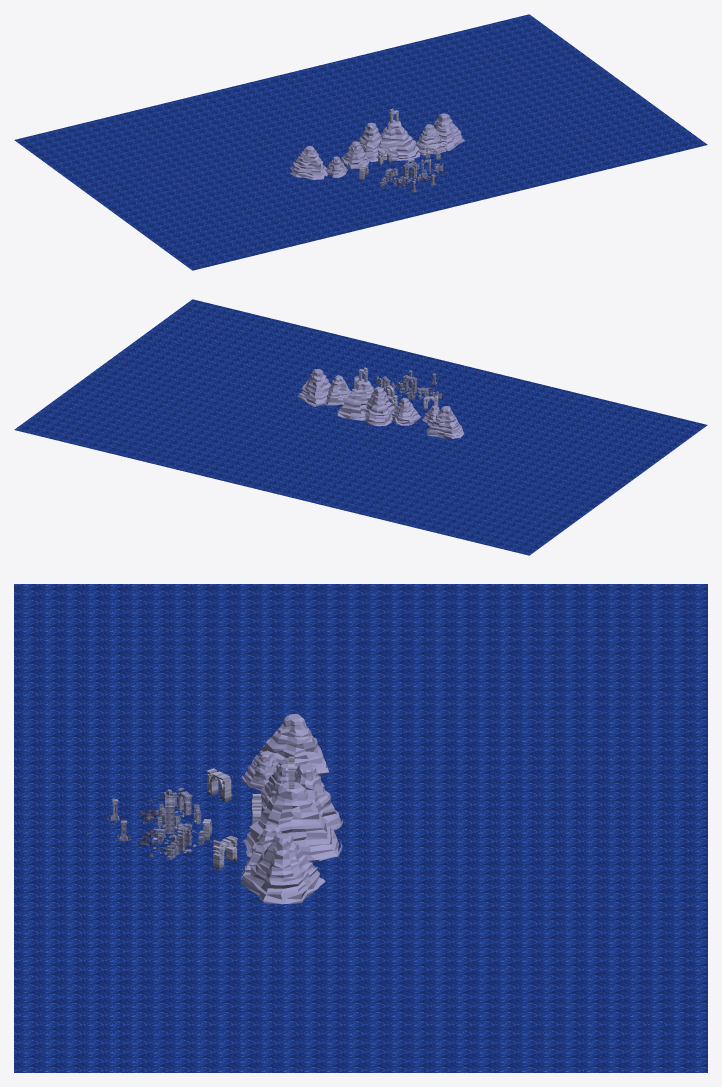
The model's file is ruins.fbx.
3 renders of one model, top to bottom at view 1: azimuth 30°, elevation 25°; view 2: azimuth 150°, elevation 25°; view 3: azimuth 270°, elevation 25°, orthographic. The views are drawn at different scales.
Parts seen in each view (by area): view 1: Water, Crag_Main, Crag_Far_L2, Crag_Far_R, Crag_Left, Crag_Right, Crag_Left_2; view 2: Water, Crag_Main, Crag_Left, Crag_Far_R, Crag_Far_L2, Crag_Left_2, Crag_Right; view 3: Water, Crag_Main, Crag_Far_R, Crag_Far_L2, Crag_Left, Crag_Far_L.
Boxes of the visible parts, x1,y1,x2,y2 form: Water: [14, 14, 707, 270]; Crag_Main: [376, 120, 420, 160]; Crag_Far_L2: [289, 146, 327, 179]; Crag_Far_R: [433, 113, 464, 150]; Crag_Left: [358, 122, 381, 162]; Crag_Right: [416, 124, 445, 155]; Crag_Left_2: [341, 141, 369, 168]; Water: [14, 299, 707, 555]; Crag_Main: [337, 379, 373, 420]; Crag_Left: [363, 386, 394, 426]; Crag_Far_R: [297, 369, 331, 406]; Crag_Far_L2: [426, 406, 464, 438]; Crag_Left_2: [391, 398, 421, 425]; Crag_Right: [324, 375, 351, 405]; Water: [14, 584, 707, 1072]; Crag_Main: [243, 782, 342, 861]; Crag_Far_R: [240, 833, 325, 904]; Crag_Far_L2: [251, 713, 329, 775]; Crag_Left: [294, 764, 342, 830]; Crag_Far_L: [241, 750, 279, 790].
Size of the model in its own units: 80000 by 7059 by 48000.
8 materials, 4 textured.
